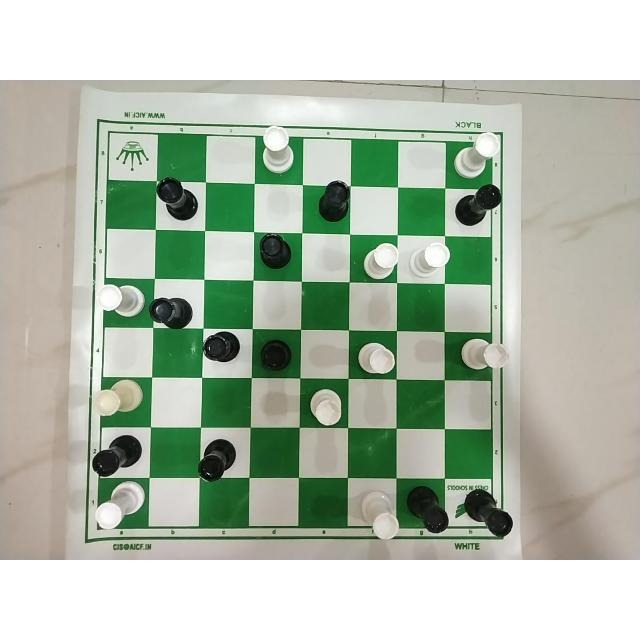black-rook: (192, 426, 246, 485), (87, 430, 147, 478), (460, 486, 513, 538), (404, 483, 451, 537), (151, 176, 200, 222), (453, 185, 501, 229), (316, 175, 354, 226), (148, 293, 196, 331), (257, 334, 294, 373), (257, 231, 293, 270), (199, 330, 238, 366)
white-rook: (450, 131, 502, 183), (356, 483, 400, 543), (94, 482, 145, 530), (455, 334, 511, 376), (255, 126, 297, 176), (90, 380, 146, 416), (408, 238, 452, 282), (93, 285, 146, 321), (360, 240, 401, 283), (308, 384, 348, 428), (355, 335, 396, 377)
